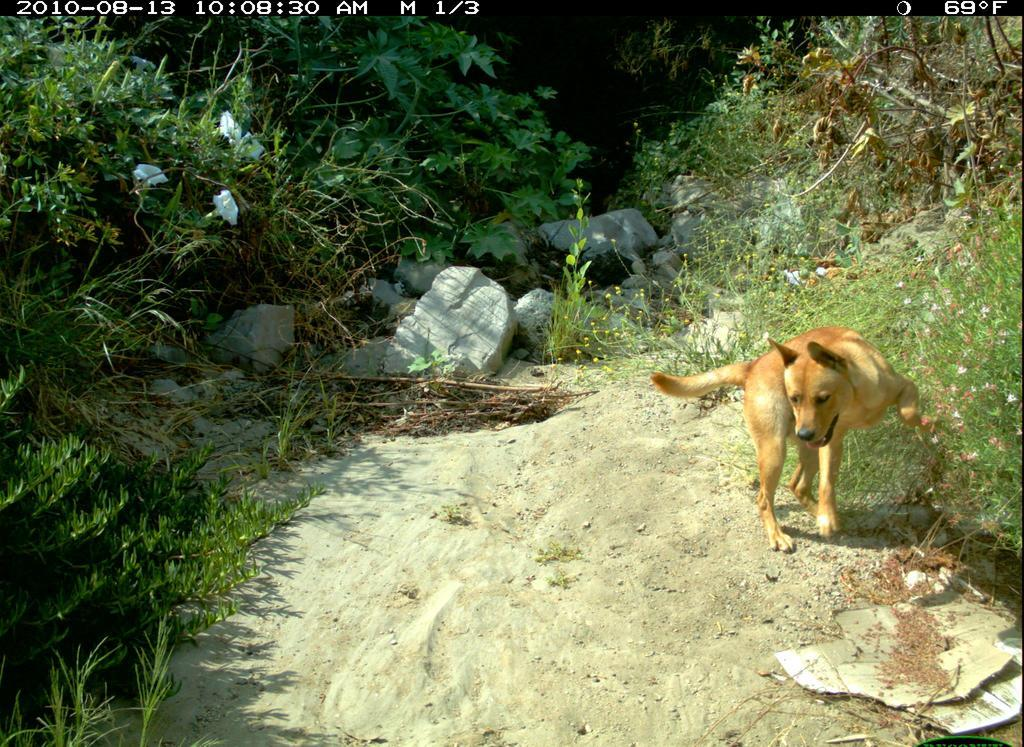dog: (646, 315, 940, 562)
